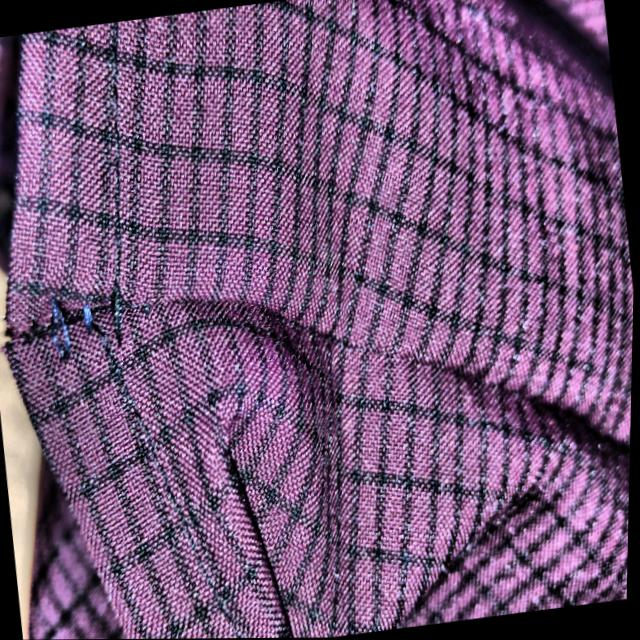Stitch: (20, 272, 149, 374)
